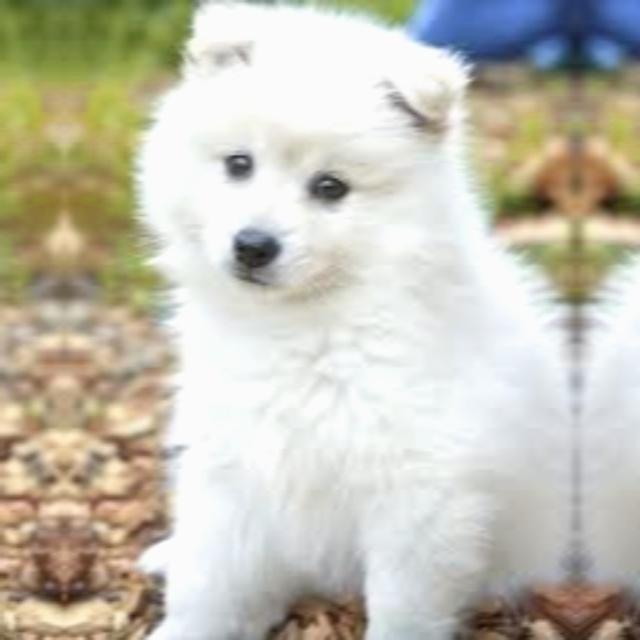dog: (127, 12, 471, 310), (0, 11, 2, 310)
